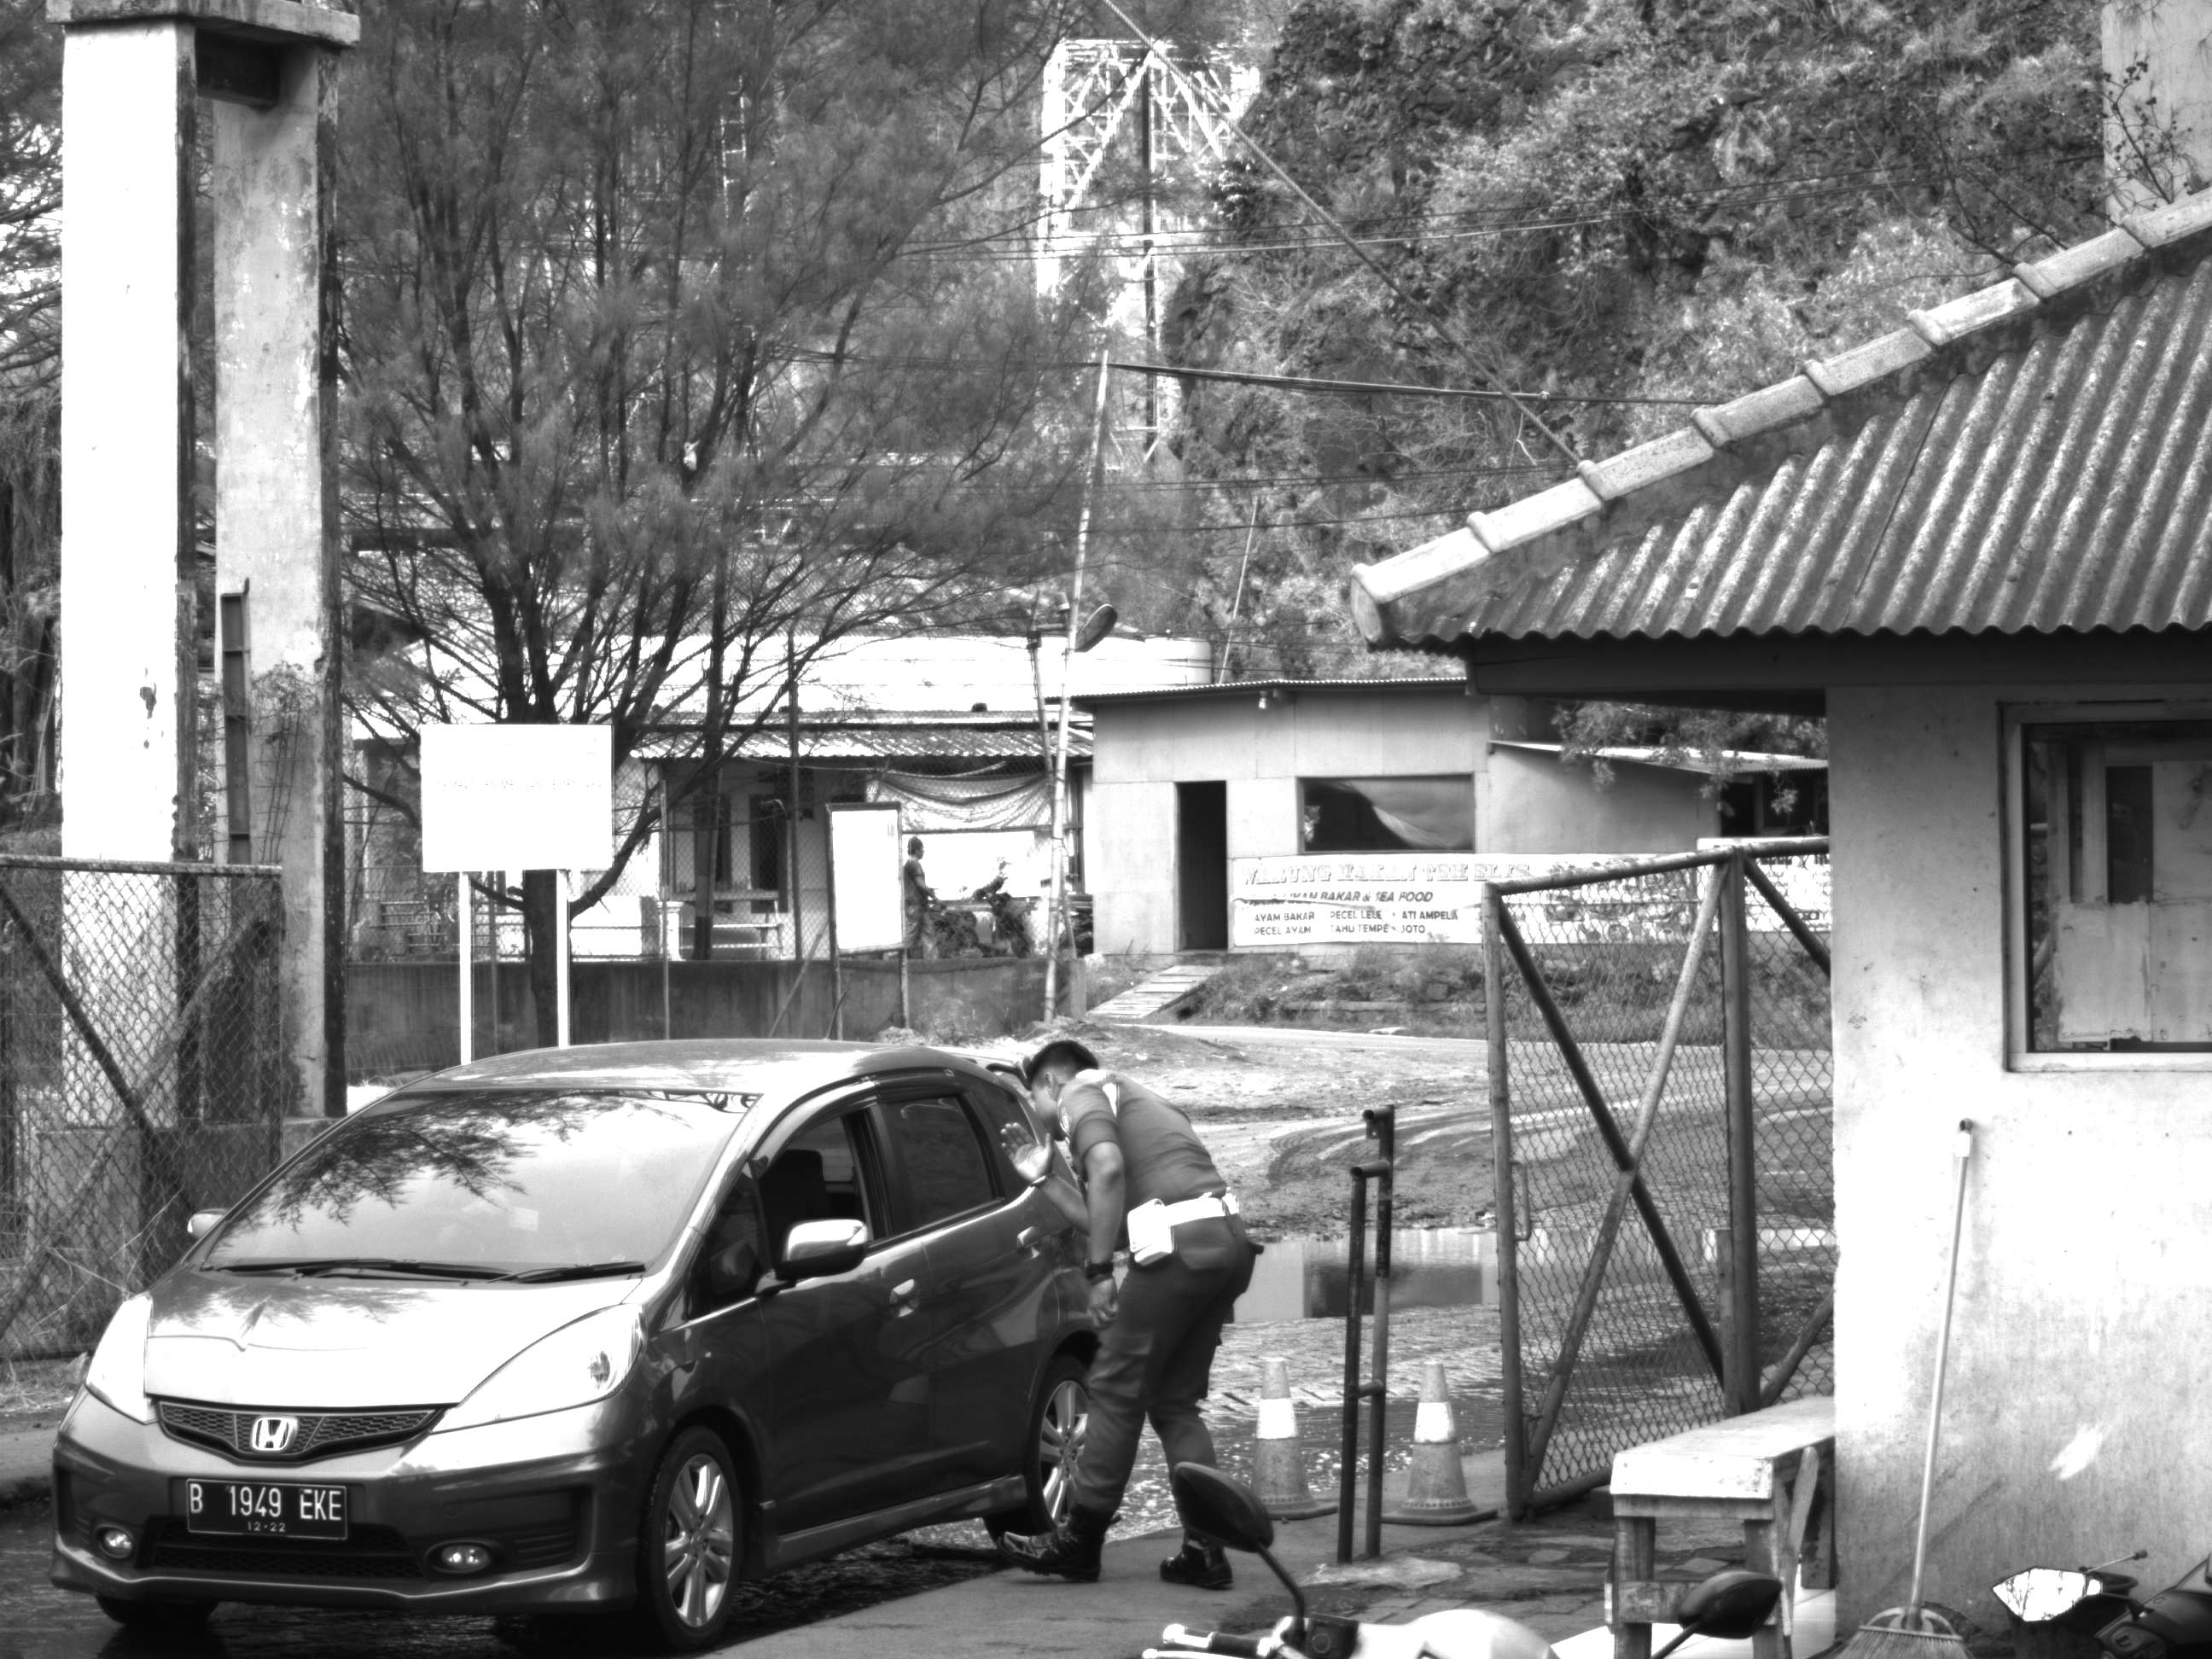day_small_front: (36, 1044, 783, 1648)
plate: (177, 1469, 354, 1549)
